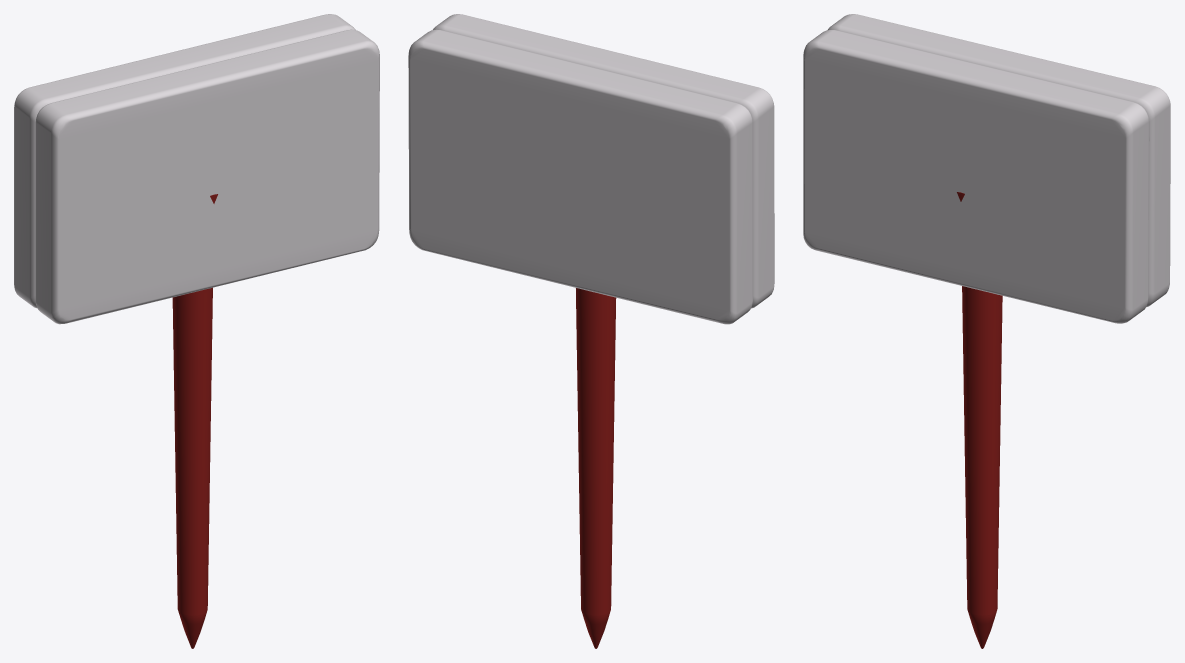
File: sign.fbx
3 renders of one model, left to right at view 1: azimuth 30°, elevation 25°; view 2: azimuth 150°, elevation 25°; view 3: azimuth 330°, elevation 25°, orthographic.
Parts seen in each view (by area): view 1: node_id9, node_id6, node_id12; view 2: node_id12, node_id6, node_id9; view 3: node_id9, node_id6, node_id12.
Boxes of the visible parts, x1=… form: node_id9: x1=35, y1=29, x2=379, y2=324; node_id6: x1=172, y1=194, x2=217, y2=648; node_id12: x1=14, y1=14, x2=355, y2=308; node_id12: x1=408, y1=29, x2=752, y2=324; node_id6: x1=576, y1=288, x2=616, y2=648; node_id9: x1=433, y1=14, x2=774, y2=308; node_id9: x1=803, y1=30, x2=1149, y2=323; node_id6: x1=957, y1=192, x2=1002, y2=648; node_id12: x1=827, y1=14, x2=1170, y2=306.
Size of the model in its own units: 0.3014 by 0.512 by 0.0689.
3 materials, 3 textured.
